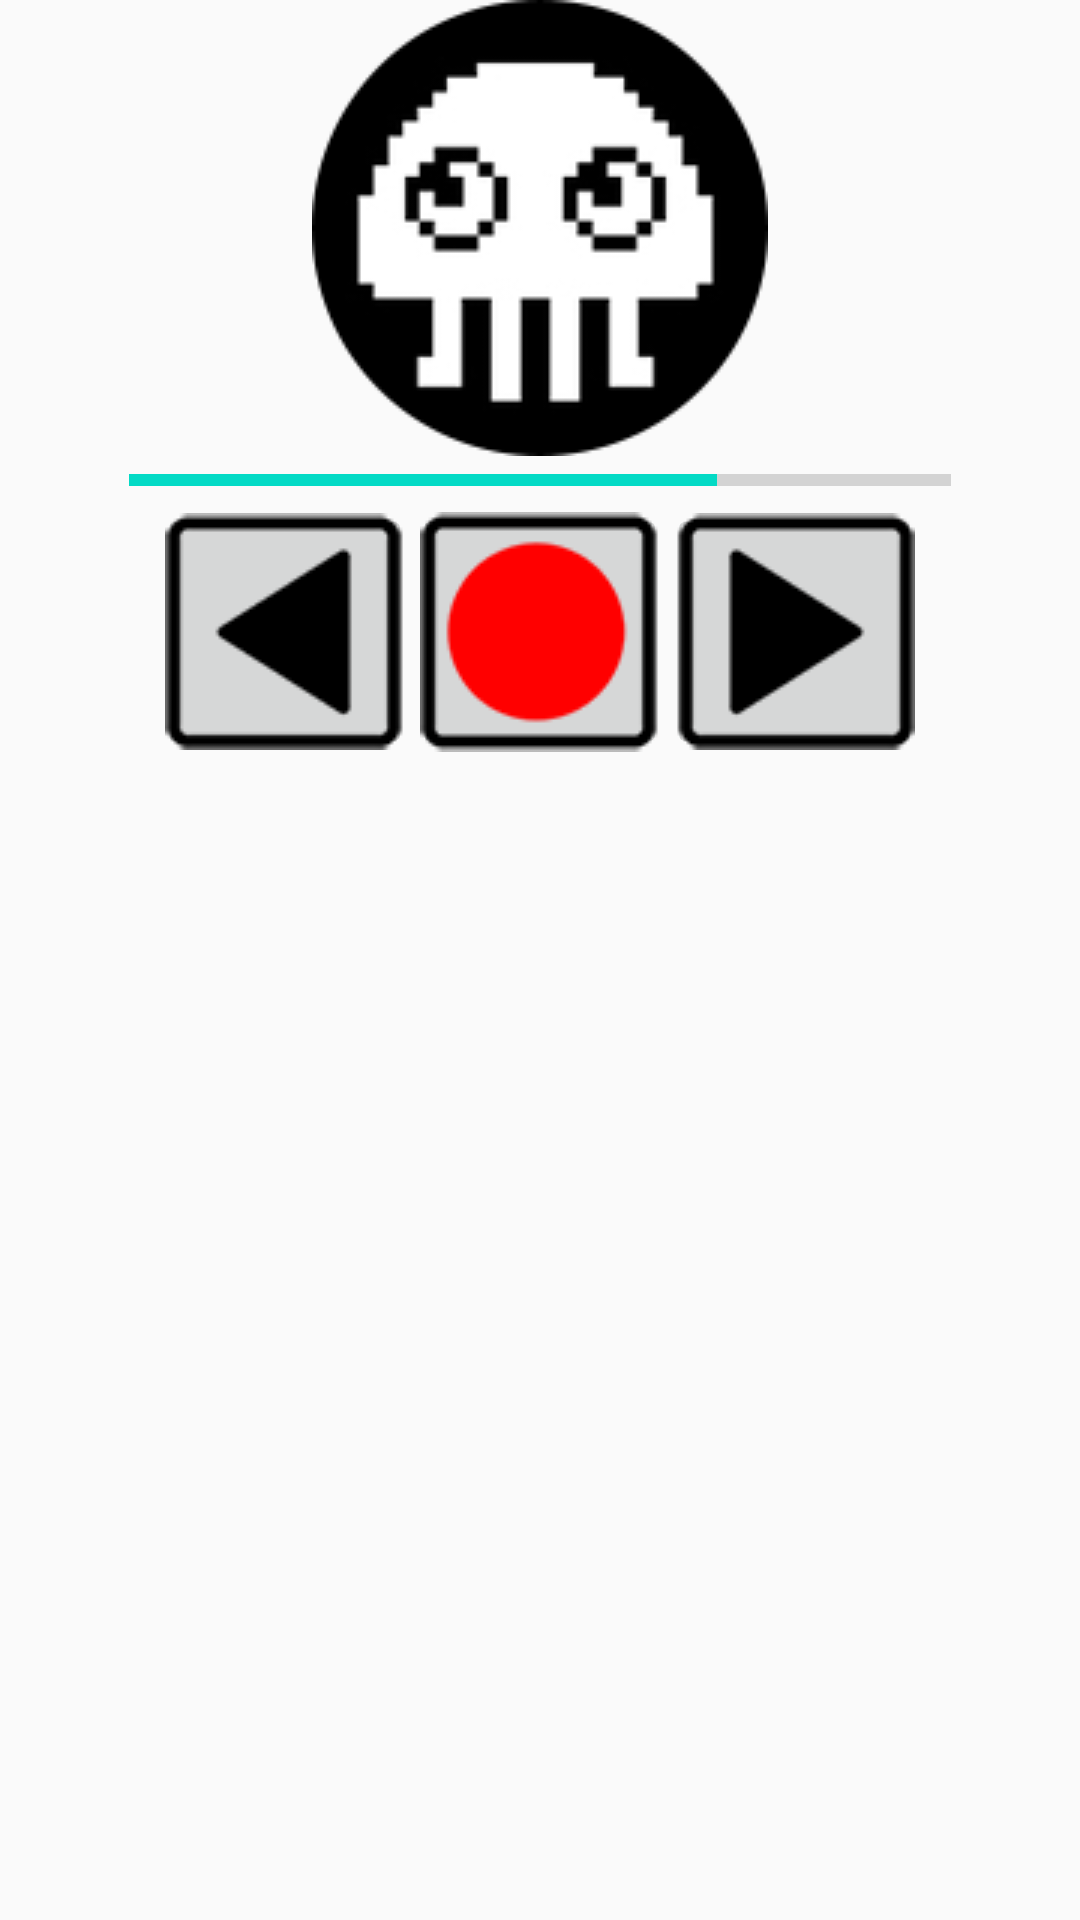

Screen size 1080×1920. Icon name, then its box in pixels as (x1=x1, y1=y1, x2=x2, y2=y2):
arrow: (x1=165, y1=513, x2=403, y2=750), (x1=677, y1=513, x2=915, y2=750)
